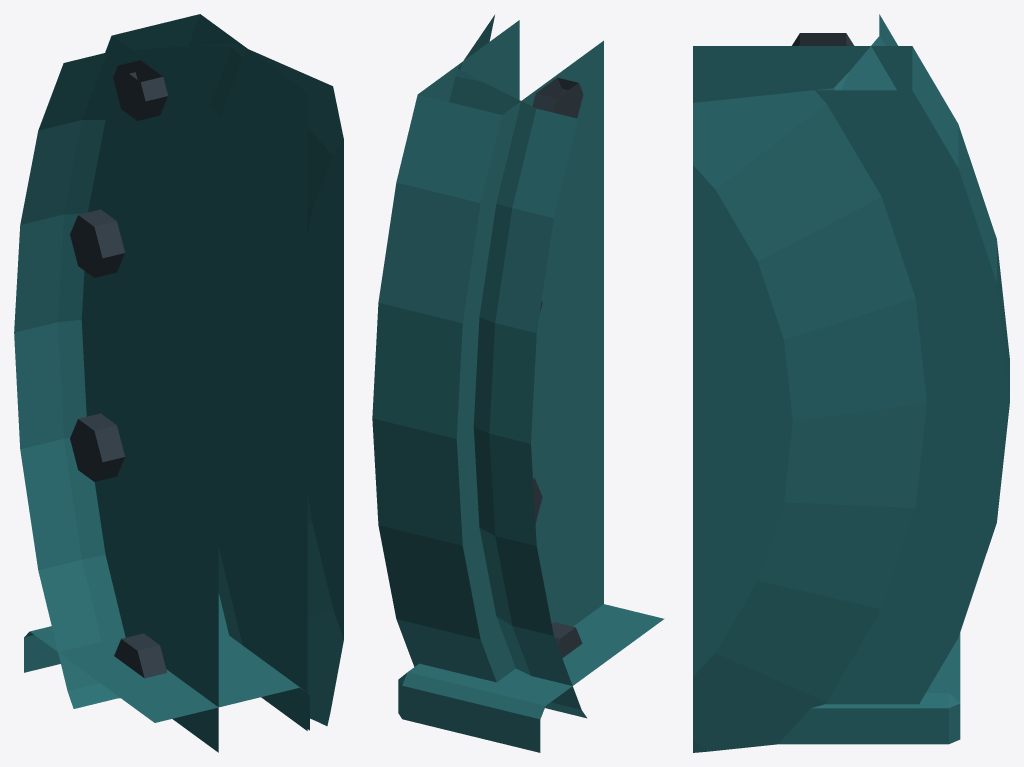
The model's file is cell_23.obj.
The picture shows the model from 3 angles, left to right: view 1: azimuth 30°, elevation 25°; view 2: azimuth 150°, elevation 25°; view 3: azimuth 270°, elevation 25°; orthographic projection. The views are drawn at different scales.
Bounding box in the file's own units: 0.3098 × 1 × 0.4398.
